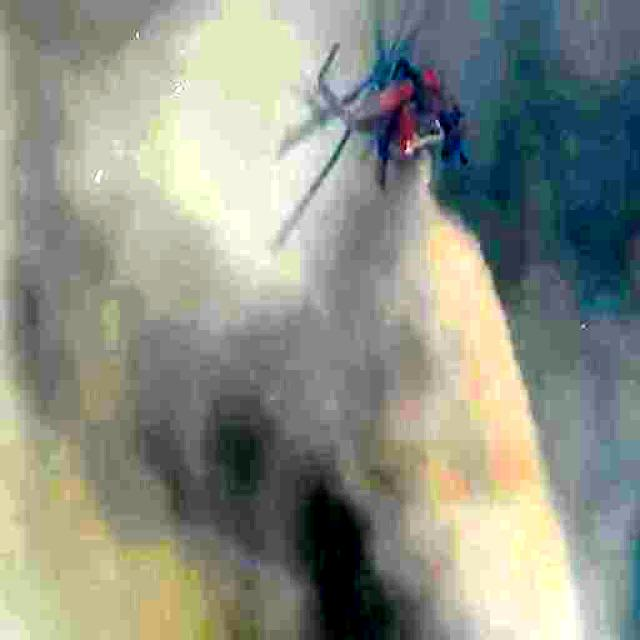drone: (270, 0, 470, 238)
